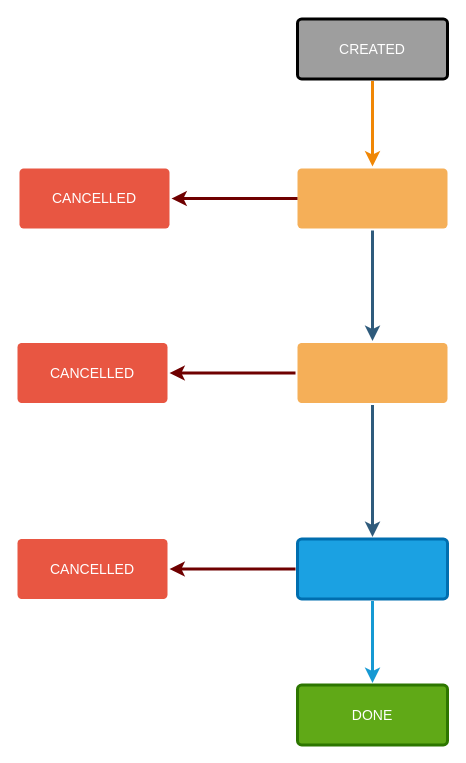
This 466x763 diagram has some shape labels left out. The shapes that lost their labels are listed below. From the top down, each one's centre as x and y in pixels, then its label:
At (372,198): "APPLICATIONS_OPEN".
At (372,372): "APPLICATIONS_CLOSED".
At (372,568): "STARTED".
